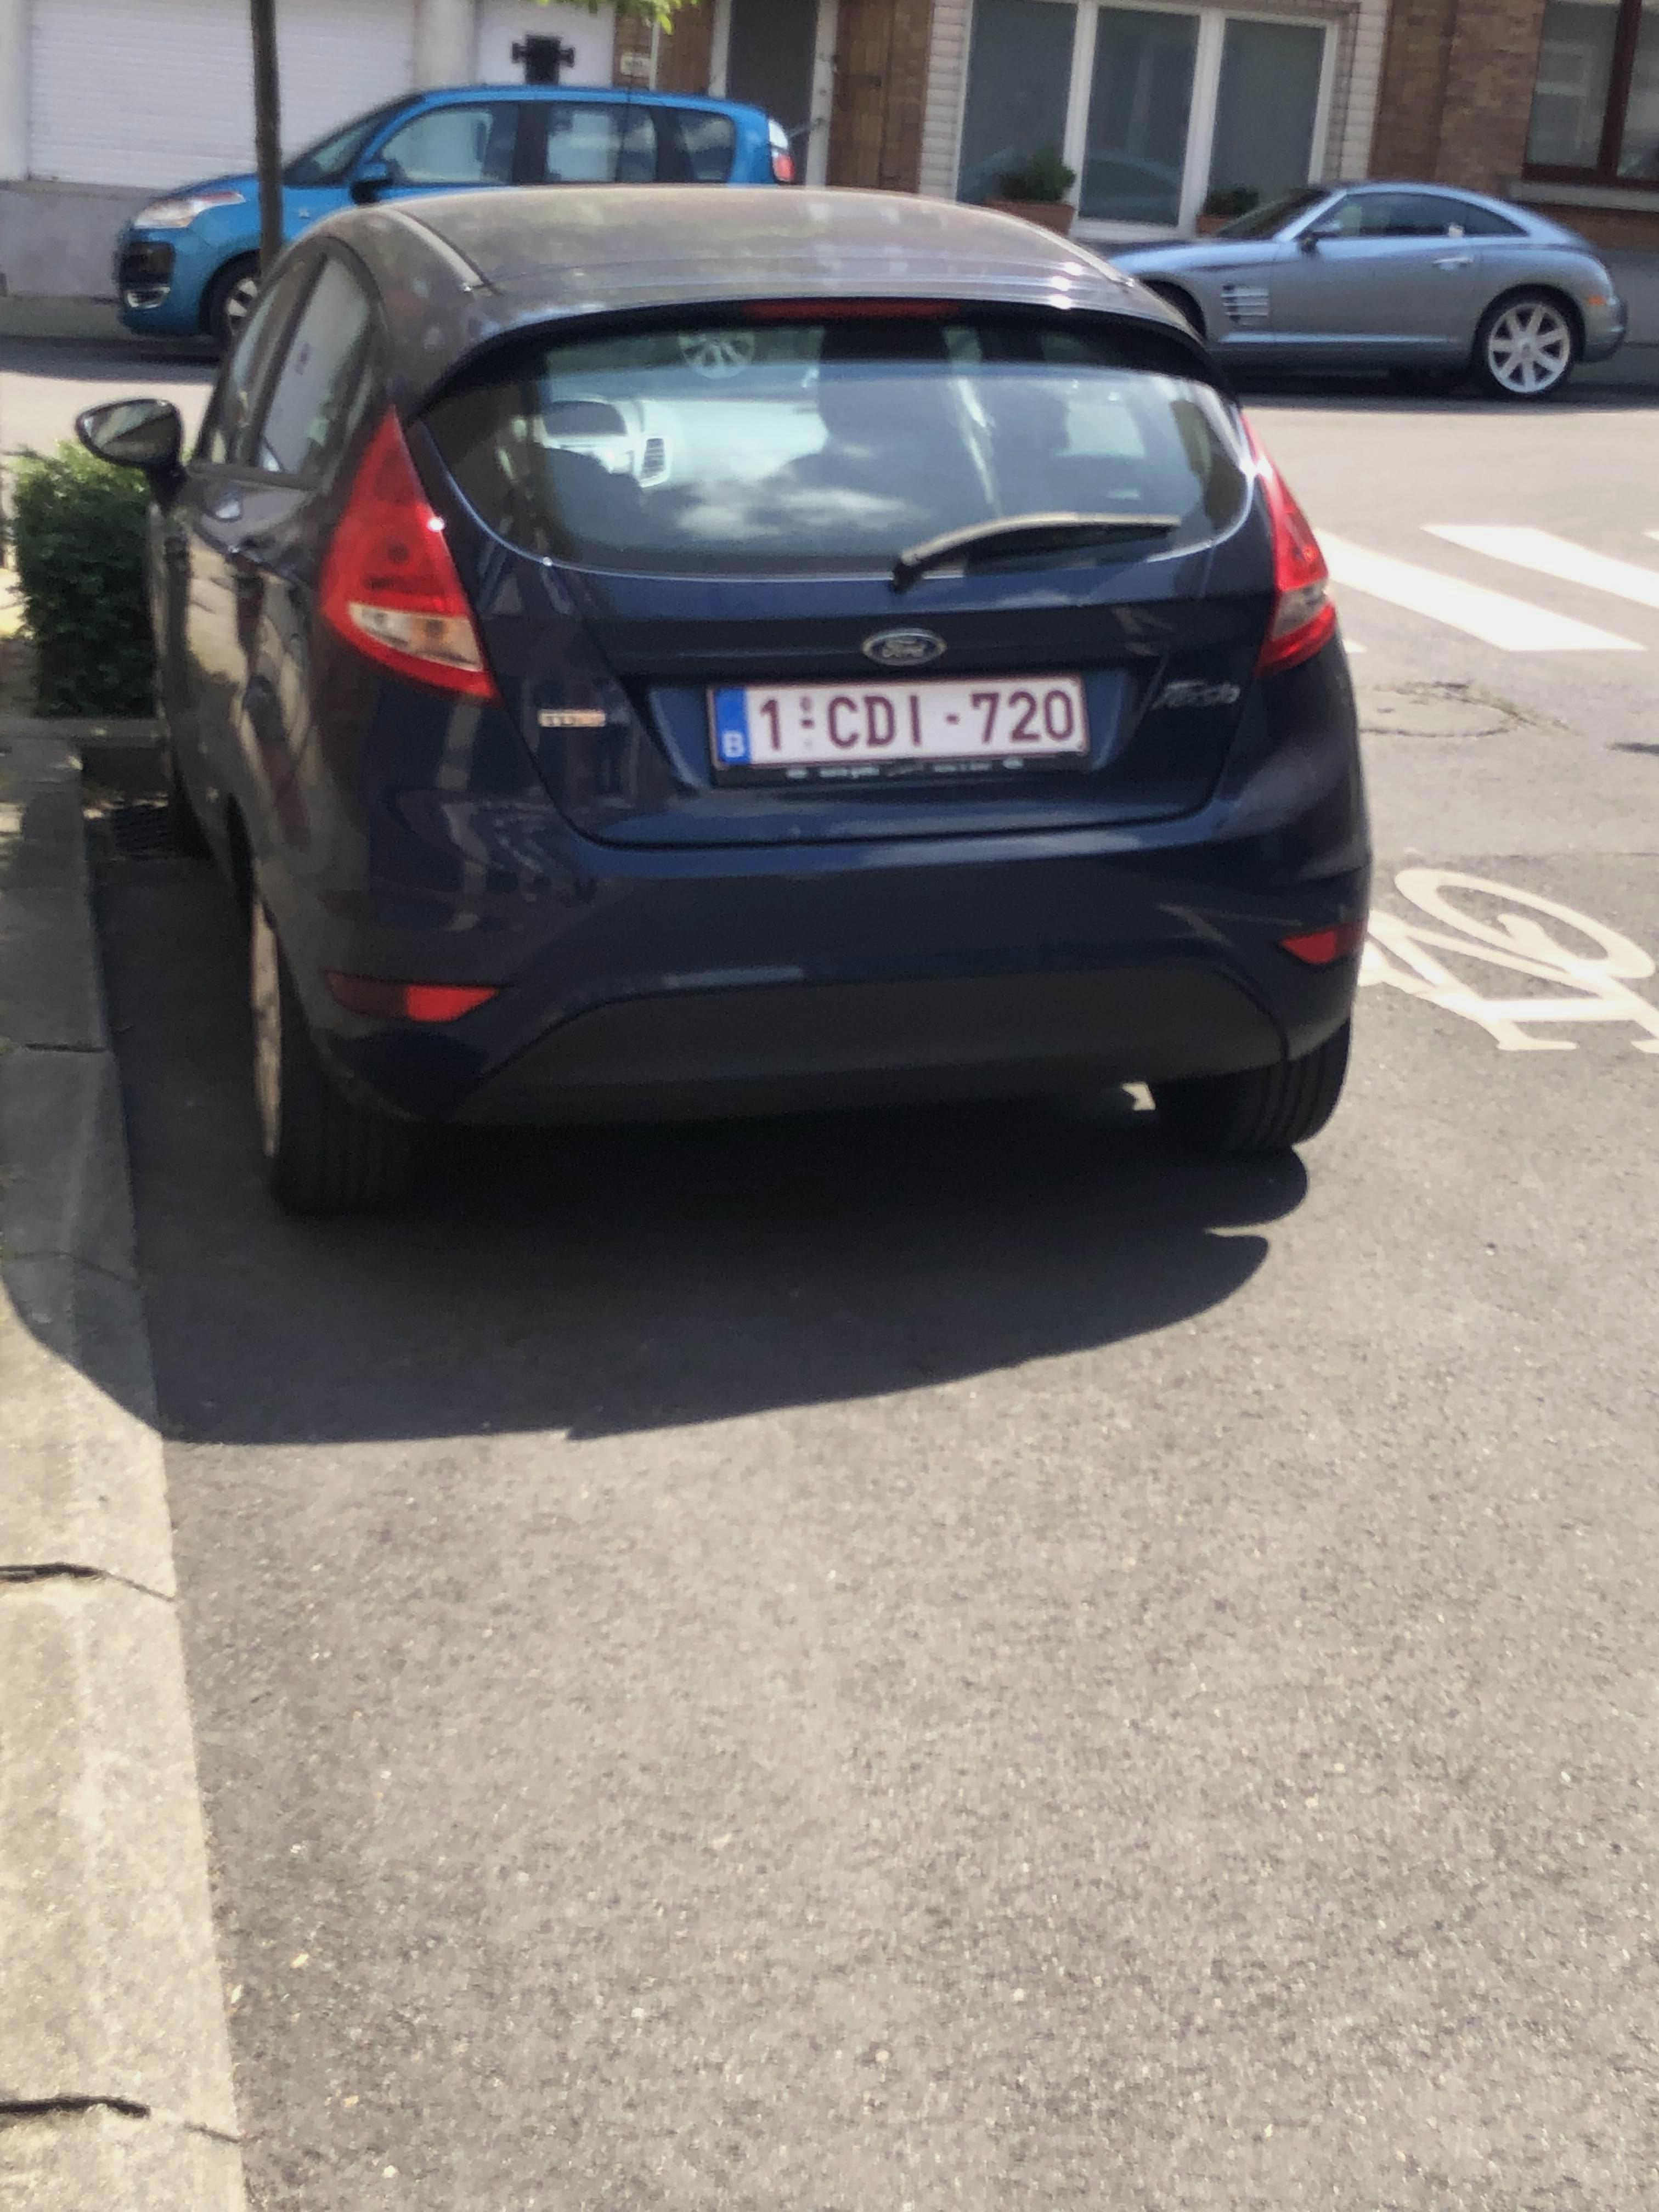plate: (689, 657, 1111, 789)
